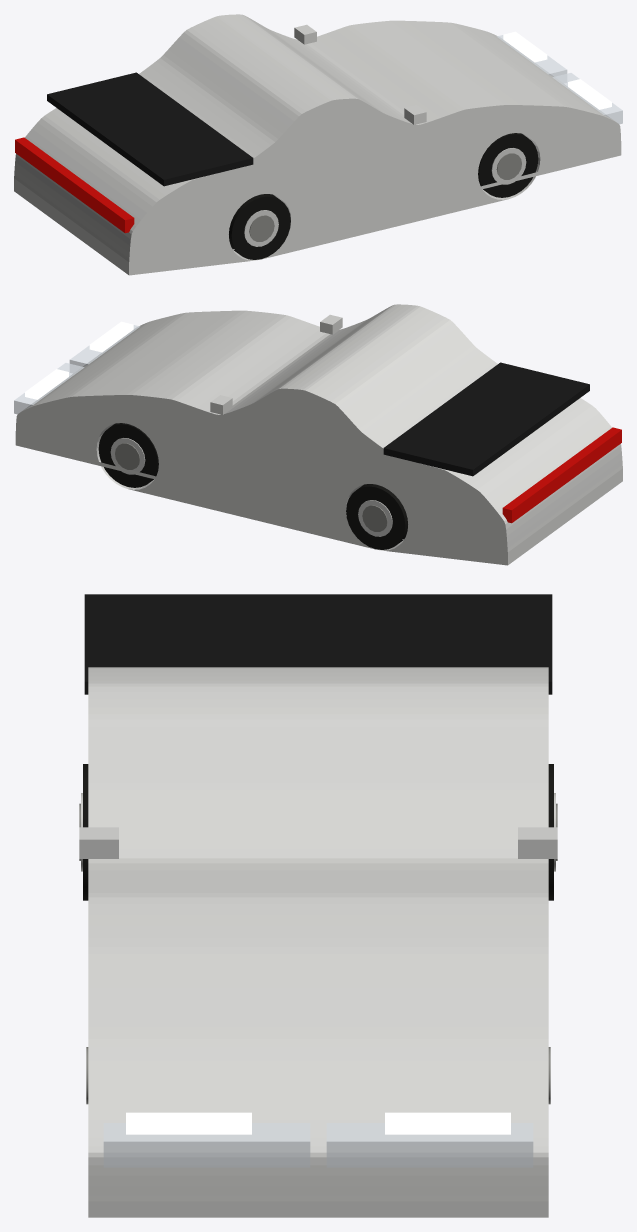
The model's file is supra.optimized.glb.
The picture shows the model from 3 angles, top to bottom: view 1: azimuth 30°, elevation 25°; view 2: azimuth 150°, elevation 25°; view 3: azimuth 270°, elevation 25°; orthographic projection. The views are drawn at different scales.
Parts seen in each view (by area): view 1: body, Supra; view 2: body, Supra; view 3: body, Supra.
Boxes of the visible parts, x1,y1,x2,y2 form: body: (14,14,621,275); Supra: (15,24,622,259); body: (15,304,622,565); Supra: (14,314,621,549); body: (88,667,548,1217); Supra: (79,594,557,1167).
Size of the model in its own units: 6.35 by 1.72 by 2.64.
